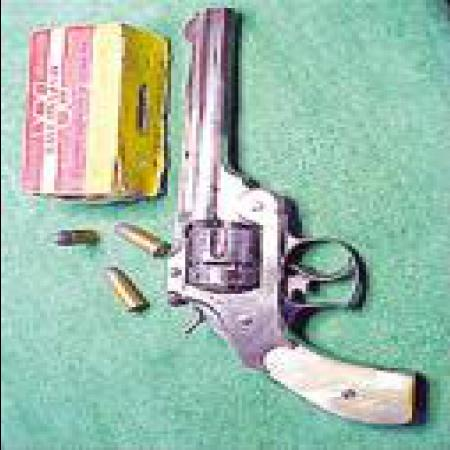Pistol: (163, 3, 418, 426)
